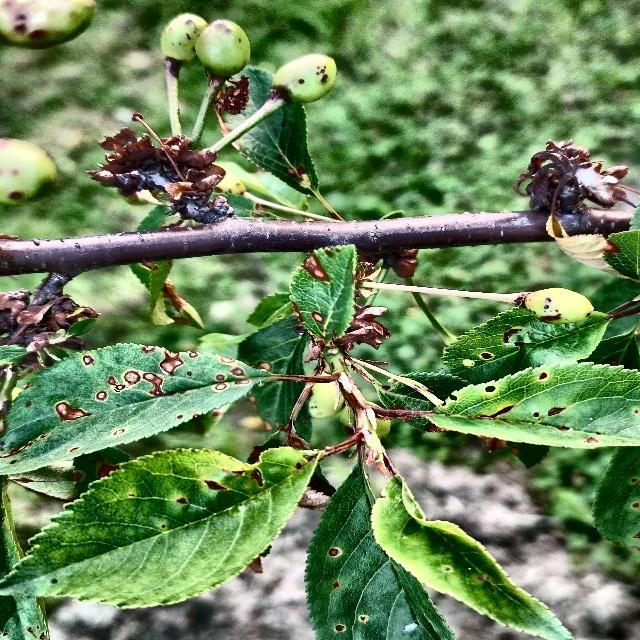shot_hole: (2, 431, 325, 616), (367, 465, 601, 640), (0, 328, 258, 486), (413, 286, 619, 395), (418, 356, 640, 452), (282, 246, 374, 371)
